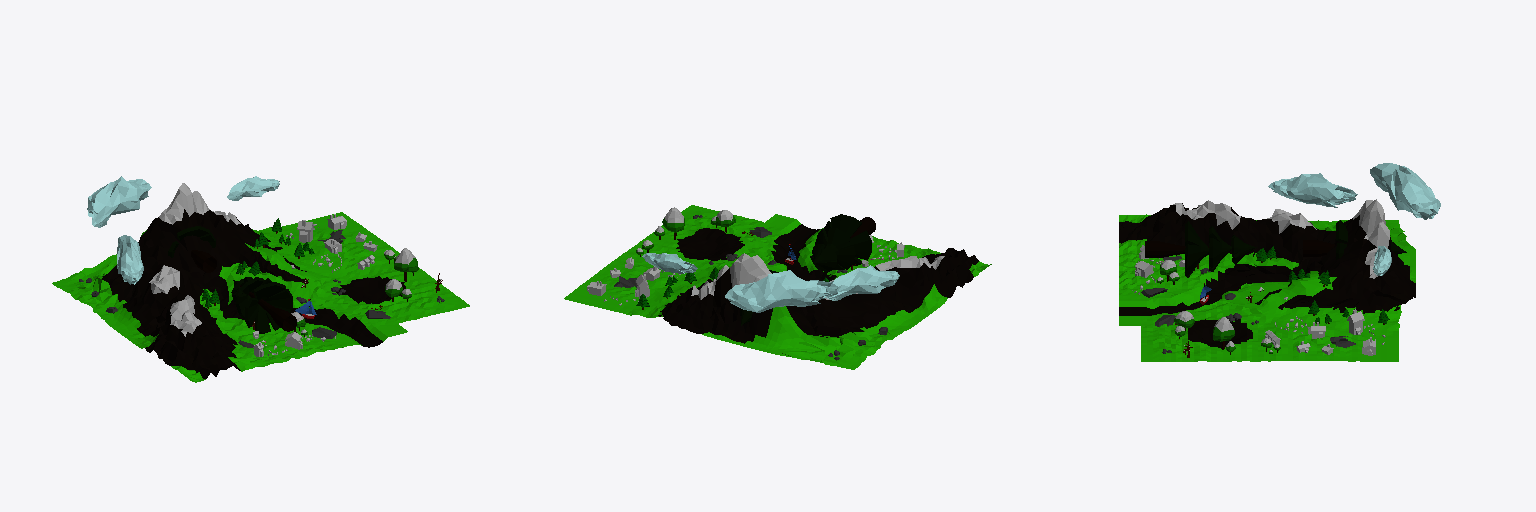
File: Spring.obj
The picture shows the model from 3 angles: view 1: azimuth 30°, elevation 25°; view 2: azimuth 150°, elevation 25°; view 3: azimuth 270°, elevation 25°; orthographic projection.
Parts seen in each view (by area): view 1: Plane, Circle, Cube.001_Cube.002, Cube.002_Cube.003, Circle.001, Cube.003_Cube.004; view 2: Plane, Cube.001_Cube.002, Circle, Cube.002_Cube.003, Cube.003_Cube.004; view 3: Plane, Circle, Cube.001_Cube.002, Cube.002_Cube.003, Circle.001.
Part boxes in pixels (bbox=[...]): Plane: bbox=[52, 183, 469, 382]; Circle: bbox=[231, 277, 296, 333]; Cube.001_Cube.002: bbox=[87, 176, 151, 227]; Cube.002_Cube.003: bbox=[117, 235, 143, 284]; Circle.001: bbox=[168, 226, 216, 272]; Cube.003_Cube.004: bbox=[227, 176, 279, 200]; Plane: bbox=[564, 205, 991, 369]; Cube.001_Cube.002: bbox=[725, 270, 838, 312]; Circle: bbox=[810, 214, 875, 271]; Cube.002_Cube.003: bbox=[827, 265, 899, 300]; Cube.003_Cube.004: bbox=[642, 253, 697, 273]; Plane: bbox=[1119, 199, 1415, 361]; Circle: bbox=[1145, 221, 1256, 277]; Cube.001_Cube.002: bbox=[1370, 163, 1440, 219]; Cube.002_Cube.003: bbox=[1268, 173, 1357, 207]; Circle.001: bbox=[1303, 220, 1406, 259].
Size of the model in its own units: 29.18 by 9.22 by 27.98.